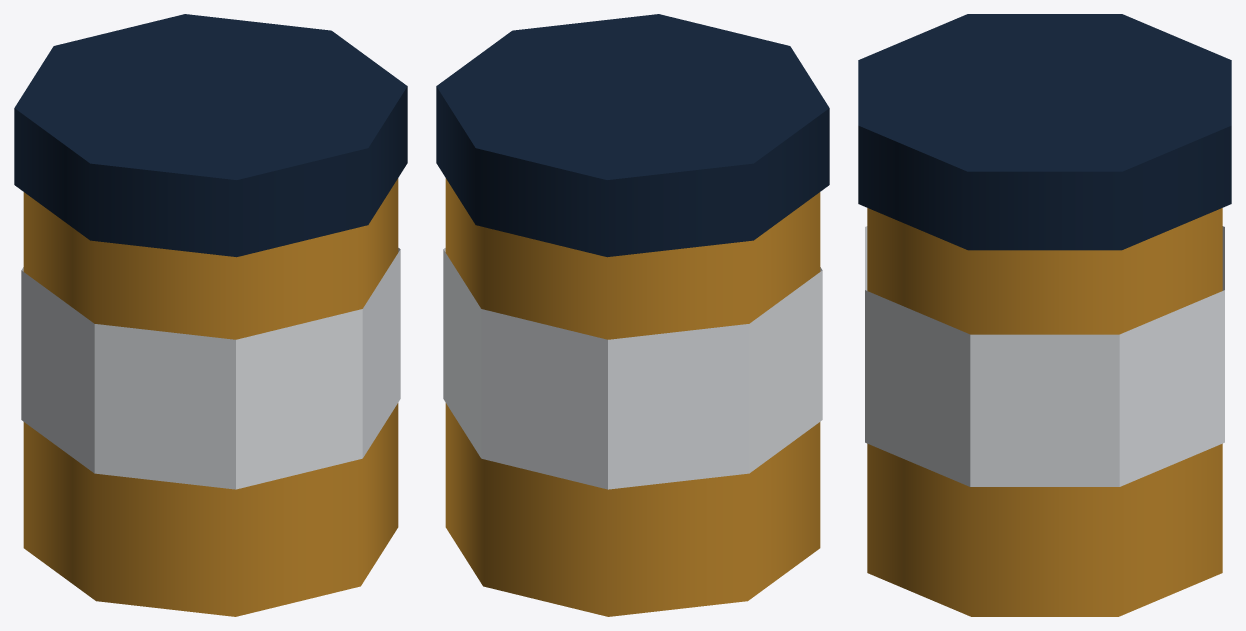
The model's file is CM_Product_HoneyJar.fbx.
The picture shows the model from 3 angles, left to right: view 1: azimuth 30°, elevation 25°; view 2: azimuth 150°, elevation 25°; view 3: azimuth 270°, elevation 25°; orthographic projection.
Visible parts, largest first — view 1: HoneyJar; view 2: HoneyJar; view 3: HoneyJar.
Part boxes in pixels (x1,y1,x2,y2): HoneyJar: (14, 14, 407, 616); HoneyJar: (436, 14, 829, 616); HoneyJar: (858, 14, 1231, 616).
Bounding box in the file's own units: 0.7761 × 0.7761 × 1.03.
Materials: 1 (1 with a texture image).
